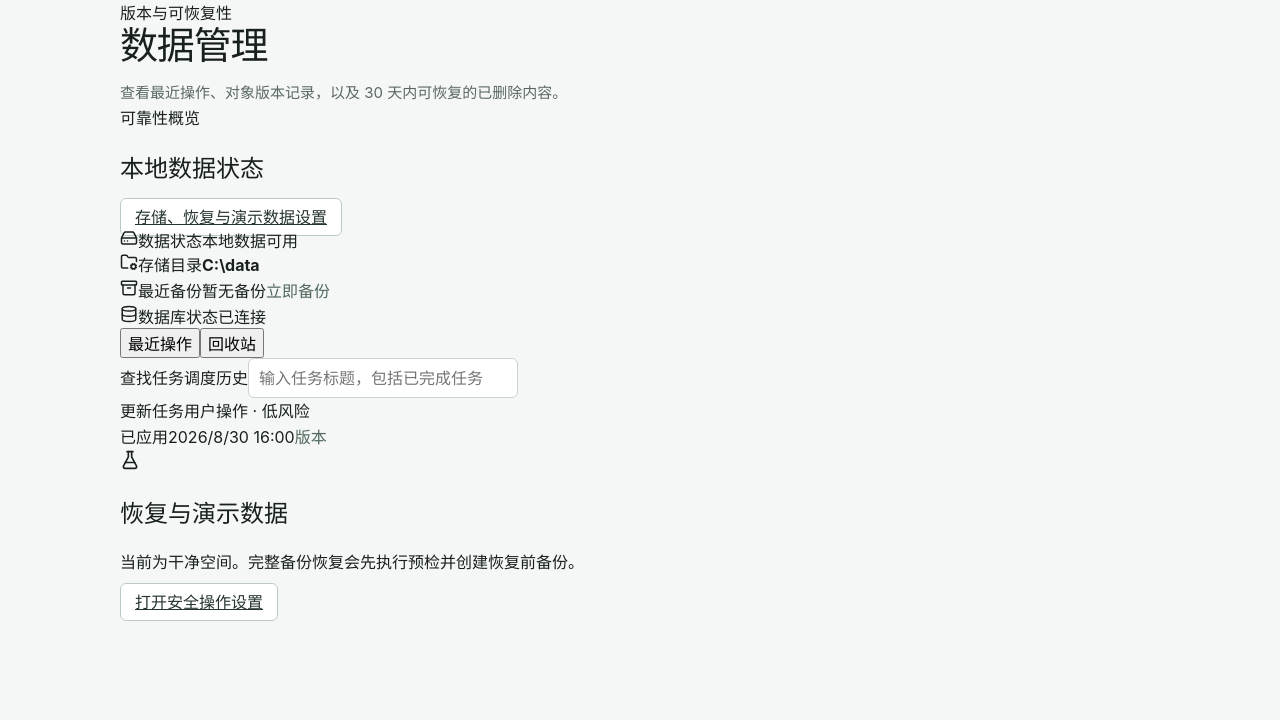
Test: DataManagementPage history closure › labels BASELINE and CANONICAL versions as trusted and offers restore
The image size is (1280, 720).
Click the button "版本" at (311, 436), box top-left (295, 422), bottom-right (327, 450)
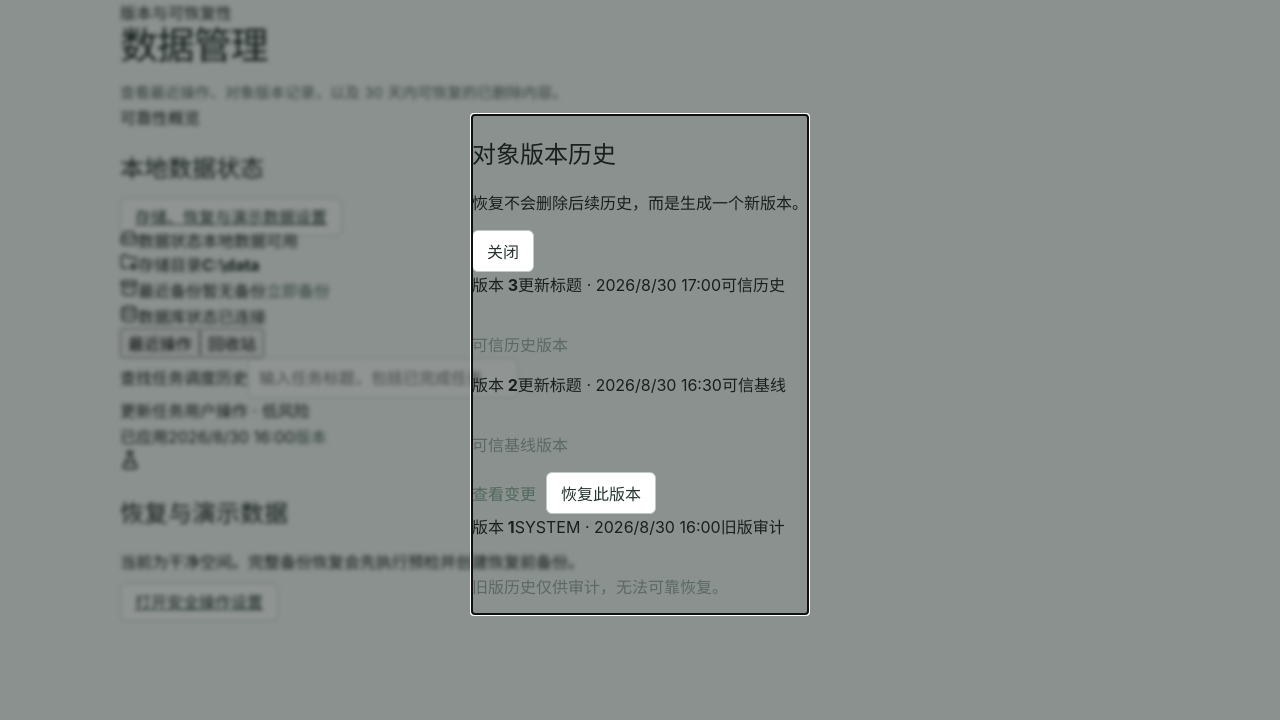
Now the heading "对象版本历史" is shown, box top-left (472, 140), bottom-right (616, 169)
Now the text "可信基线版本" is shown, box top-left (472, 435), bottom-right (568, 455)
Now the text "可信历史版本" is shown, box top-left (472, 335), bottom-right (568, 355)
